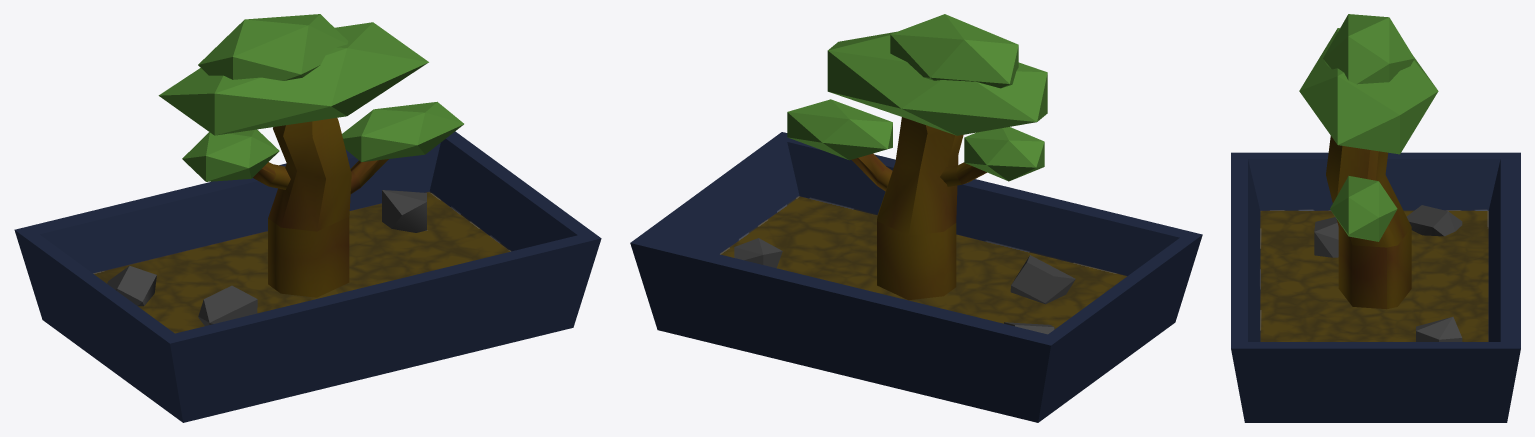
3 views of the same model, side by side, from view 1: azimuth 30°, elevation 25°; view 2: azimuth 150°, elevation 25°; view 3: azimuth 270°, elevation 25° (orthographic). The views are drawn at different scales.
Parts seen in each view (by area): view 1: pPlatonic5; view 2: pPlatonic5; view 3: pPlatonic5.
Boxes of the visible parts, x1,y1,x2,y2 form: pPlatonic5: [14, 14, 601, 422]; pPlatonic5: [630, 14, 1202, 422]; pPlatonic5: [1231, 14, 1520, 422].
Bounding box in the file's own units: 3.25 × 2.25 × 2.03.
Materials: 1 (1 with a texture image).
